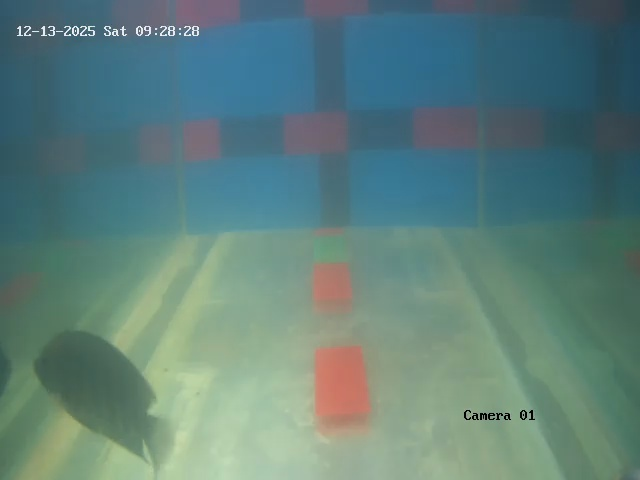fish: (28, 324, 156, 451)
